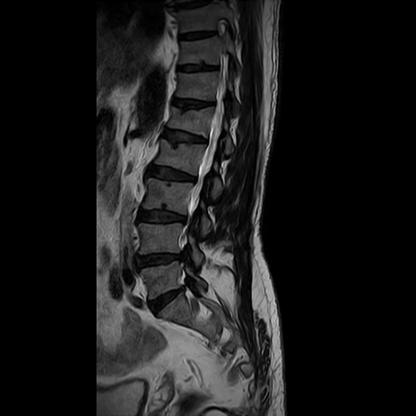Annular Disc Relaxationrotation: (147, 166, 200, 187), (164, 130, 211, 152)
Disc Bulgerotation: (146, 287, 189, 317), (133, 251, 183, 273)
